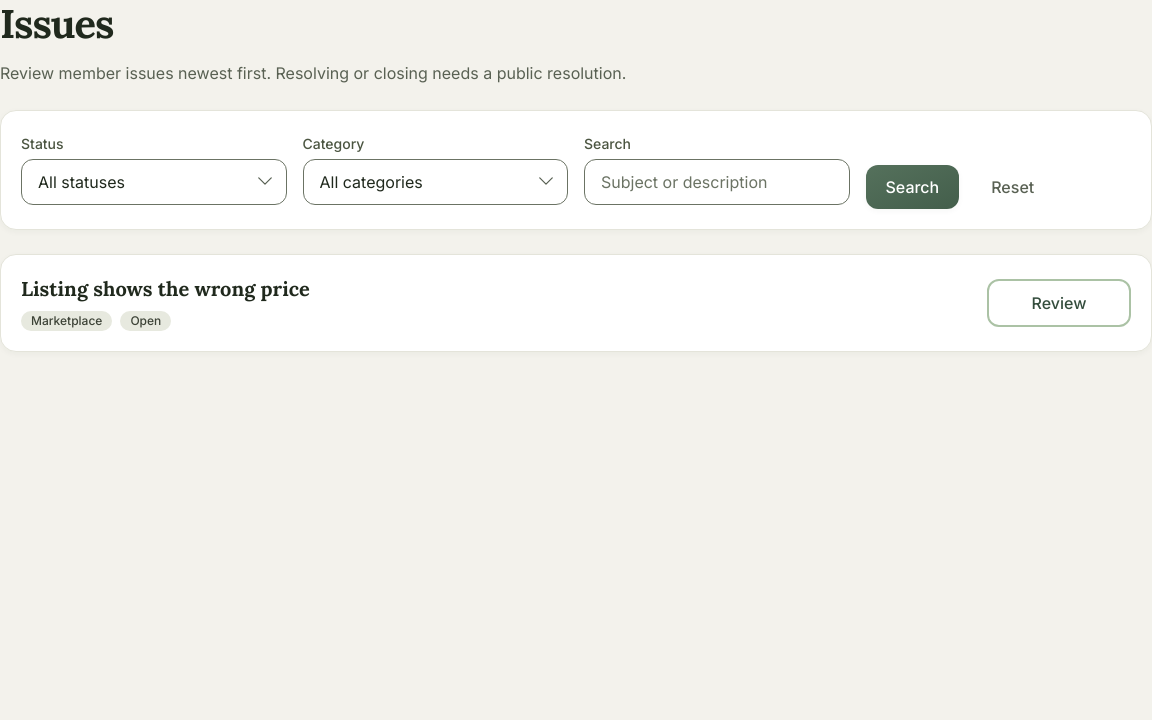
Test: AdminIssuesPage.vue › shows reporter identity only in the admin detail
Click the button "Review": (1059, 303) [987,279,1131,327]
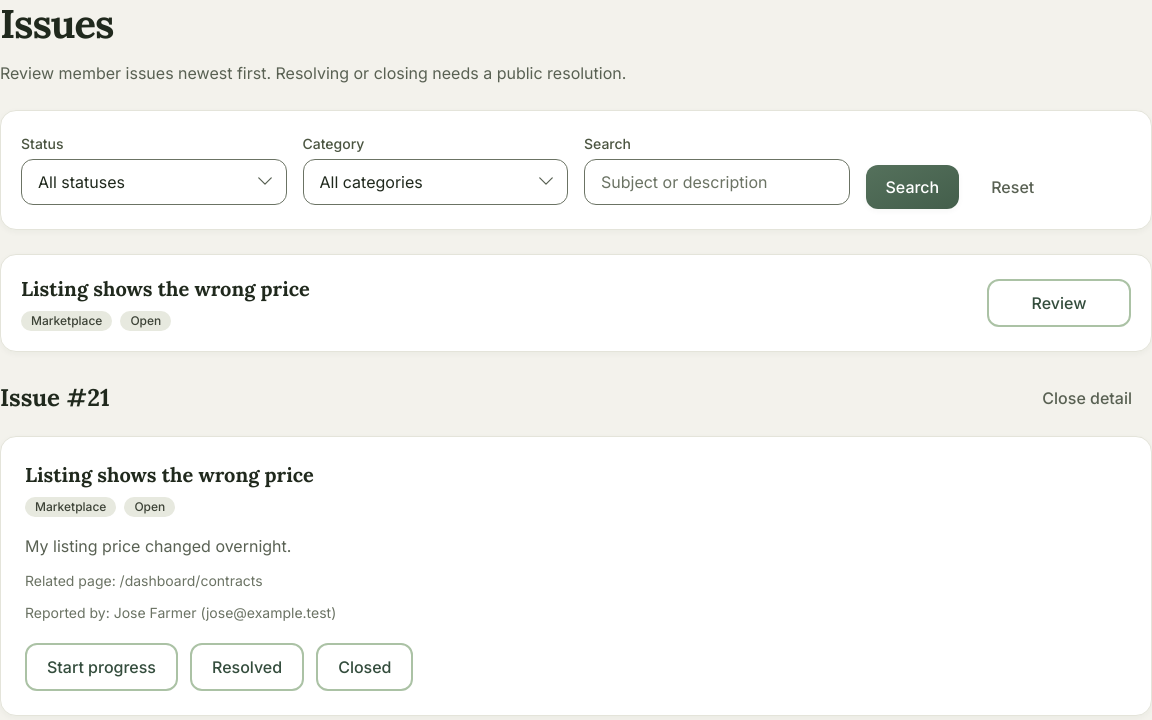
expect the element named "Issue detail" shows "Jose Farmer": met, box [25,604,200,621]
expect the element named "Issue detail" shows "jose@example.test": met, box [200,604,336,621]
